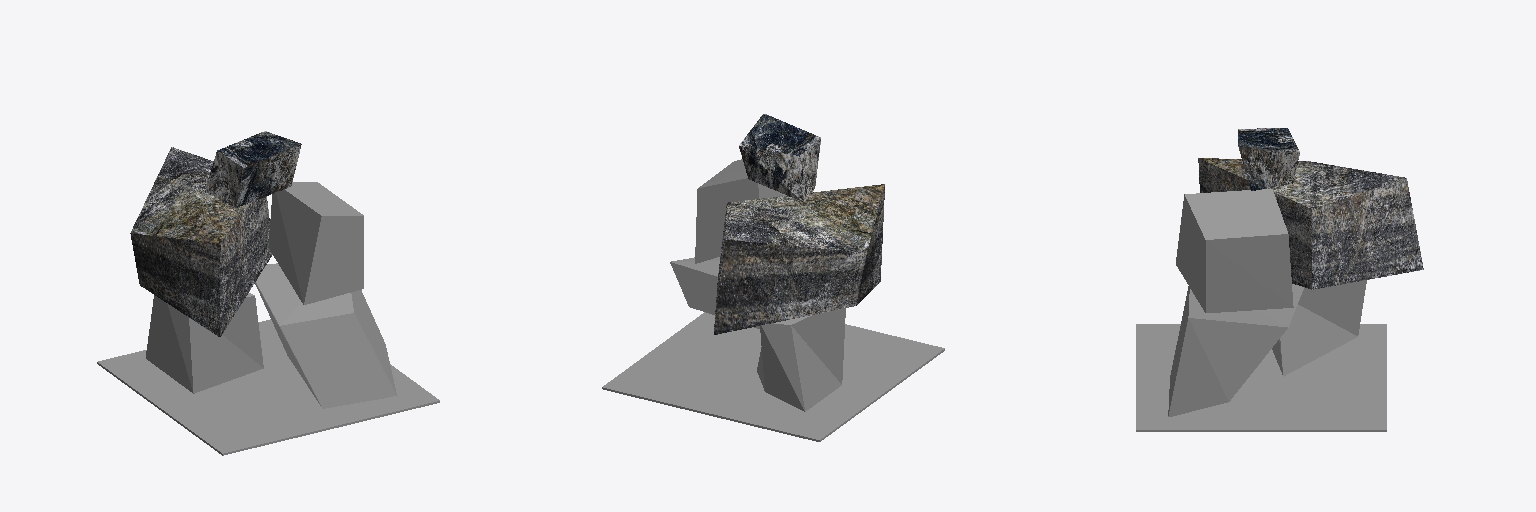
3 views of the same model, side by side, from view 1: azimuth 30°, elevation 25°; view 2: azimuth 150°, elevation 25°; view 3: azimuth 270°, elevation 25° (orthographic).
Parts seen in each view (by area): view 1: Cube.003, Cube.005, Cube.001, Cube_Cube.004, Cube.004_Cube, Cube.002; view 2: Cube.003, Cube.005, Cube.004_Cube, Cube.002, Cube_Cube.004, Cube.001; view 3: Cube.005, Cube.003, Cube_Cube.004, Cube.001, Cube.004_Cube, Cube.002.
Part boxes in pixels (left/top/right/bottom): Cube.003: left=130, top=147, right=272, bottom=336; Cube.005: left=97, top=319, right=439, bottom=455; Cube.001: left=255, top=263, right=396, bottom=408; Cube_Cube.004: left=268, top=182, right=363, bottom=304; Cube.004_Cube: left=146, top=293, right=263, bottom=393; Cube.002: left=205, top=131, right=301, bottom=207; Cube.003: left=714, top=184, right=884, bottom=334; Cube.005: left=602, top=312, right=944, bottom=441; Cube.004_Cube: left=757, top=308, right=845, bottom=411; Cube.002: left=739, top=114, right=820, bottom=201; Cube_Cube.004: left=695, top=159, right=812, bottom=263; Cube.001: left=670, top=257, right=759, bottom=328; Cube.005: left=1136, top=324, right=1386, bottom=431; Cube.003: left=1198, top=158, right=1423, bottom=289; Cube_Cube.004: left=1176, top=189, right=1293, bottom=312; Cube.001: left=1168, top=284, right=1303, bottom=416; Cube.004_Cube: left=1272, top=280, right=1366, bottom=376; Cube.002: left=1238, top=128, right=1299, bottom=190.
Bounding box in the file's own units: 0.6146 × 0.6349 × 0.6819.
Materials: 6 (2 with a texture image).